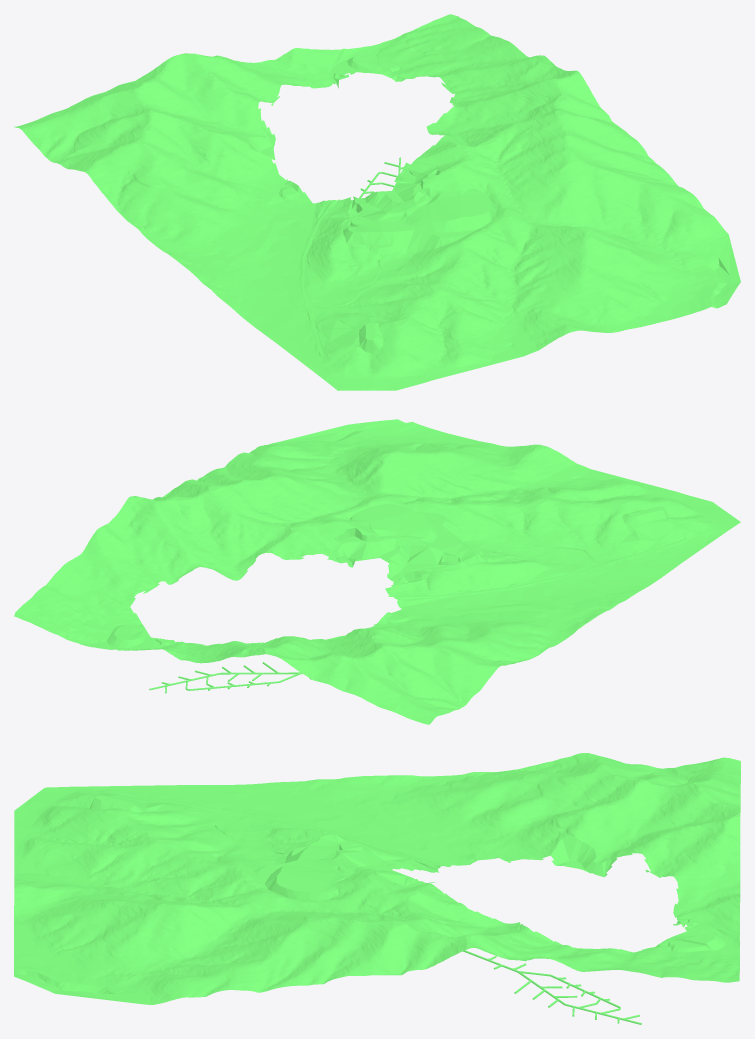
The model's file is NoLod_0.glb.
The picture shows the model from 3 angles, top to bottom: view 1: azimuth 30°, elevation 25°; view 2: azimuth 150°, elevation 25°; view 3: azimuth 270°, elevation 25°; orthographic projection. The views are drawn at different scales.
Visible parts, largest first — view 1: rtc; view 2: rtc; view 3: rtc.
Boxes of the visible parts, x1,y1,x2,y2 form: rtc: (14,14,740,390); rtc: (14,419,740,724); rtc: (14,753,740,1024).
Bounding box in the file's own units: 1196 × 314 × 1596.
